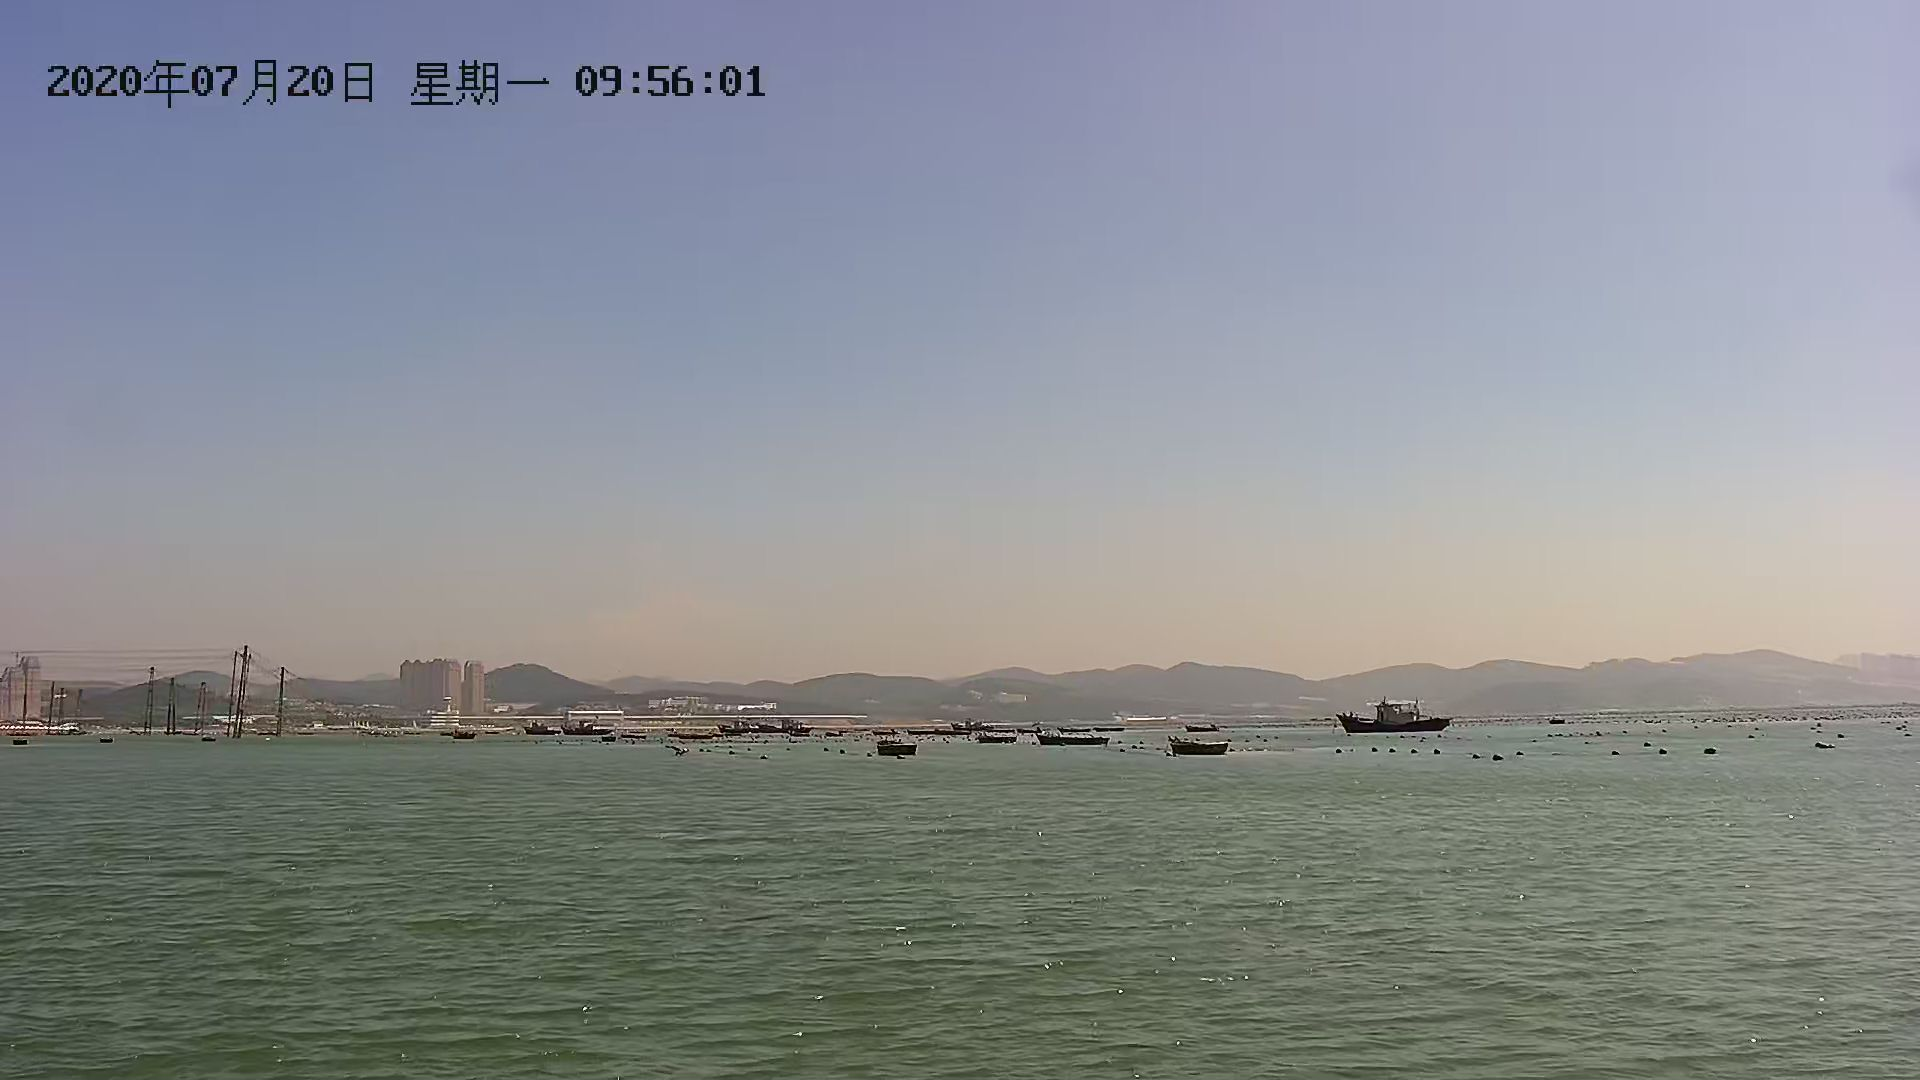boat: (1034, 728, 1116, 752), (1167, 736, 1230, 764), (973, 727, 1019, 750), (874, 737, 916, 761)
mast: (222, 646, 249, 737), (272, 663, 291, 748)
ship: (1337, 698, 1457, 737)
